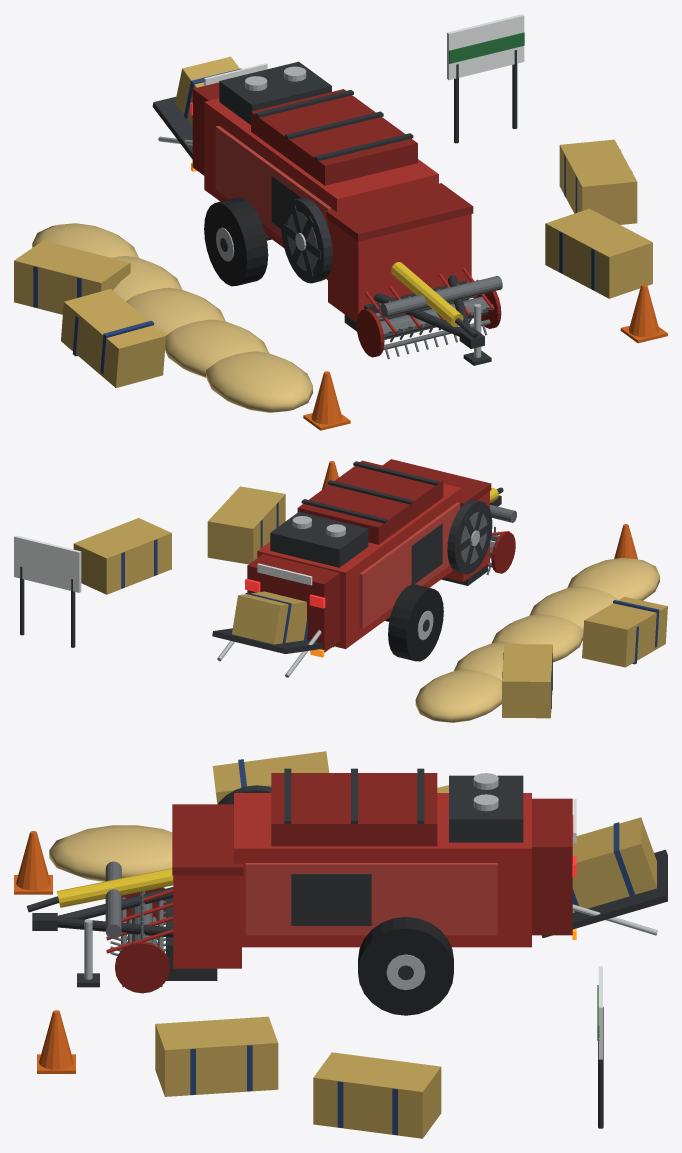
Rendered from square_baler.glb.
3 views of the same model, one above another, from view 1: azimuth 30°, elevation 25°; view 2: azimuth 150°, elevation 25°; view 3: azimuth 270°, elevation 25° (orthographic). The views are drawn at different scales.
Visible parts, largest first — view 1: BalerBody, FieldProps, PickupReel, Flywheel; view 2: BalerBody, FieldProps, Flywheel, PickupReel; view 3: BalerBody, FieldProps, PickupReel.
Boxes of the visible parts, x1,y1,x2,y2 form: BalerBody: [152, 56, 502, 365]; FieldProps: [14, 14, 667, 430]; PickupReel: [356, 279, 501, 359]; Flywheel: [281, 197, 332, 283]; BalerBody: [212, 459, 516, 677]; FieldProps: [14, 461, 667, 722]; Flywheel: [447, 499, 492, 574]; PickupReel: [486, 526, 515, 575]; BalerBody: [26, 768, 667, 1015]; FieldProps: [14, 751, 603, 1138]; PickupReel: [110, 887, 169, 993].
Size of the model in its own units: 6.71 by 1.73 by 5.71.
